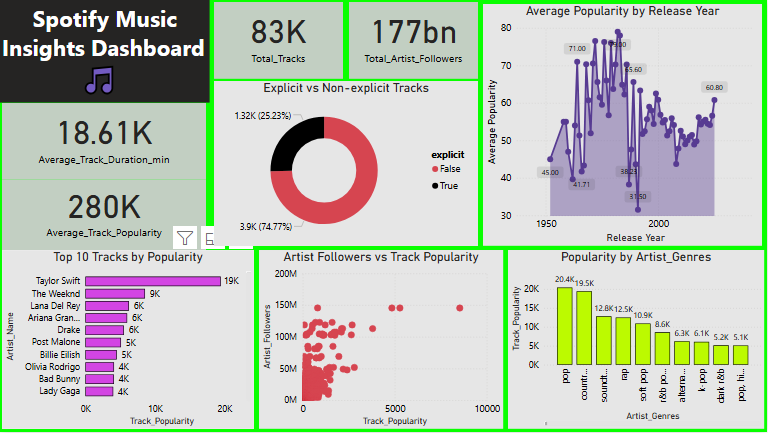

The page's visual inventory and layout, read from the dashboard file:
{"tool":"powerbi","page":{"name":"Page 1","canvas":[1280,720],"ordinal":0},"visuals":[{"type":"textbox","box":[0,0,351.4,171.4],"z":0},{"type":"card","fields":{"Values":["Sum(Sheet1.album_total_tracks)"]},"box":[358.3,3.3,215,128.3],"z":1000},{"type":"card","fields":{"Values":["Sum(Sheet1.artist_followers)"]},"box":[583.3,3.3,215,128.3],"z":2000},{"type":"card","fields":{"Values":["Sum(Sheet1.track_popularity)"]},"box":[5,300,340,116.7],"z":3000},{"type":"card","fields":{"Values":["Sum(Sheet1.track_duration_min)"]},"box":[5,171.7,340,128.3],"z":4000},{"type":"clusteredBarChart","title":"Top 10 Tracks by Popularity","fields":{"Y":["Sum(Sheet1.track_popularity)"],"Category":["Sheet1.artist_name"]},"box":[5,416.7,420,298.3],"z":5000},{"type":"columnChart","title":"Popularity by Artist_Genres","fields":{"Y":["Sum(Sheet1.track_popularity)"],"Category":["Sheet1.artist_genres"]},"box":[848.3,416.7,426.7,298.3],"z":6000},{"type":"scatterChart","title":"Artist Followers vs Track Popularity","fields":{"X":["Sum(Sheet1.track_popularity)"],"Y":["Sheet1.artist_followers"]},"box":[433.3,416.7,406.7,298.3],"z":7000},{"type":"donutChart","title":"Explicit vs Non-explicit Tracks","fields":{"Category":["Sheet1.explicit"],"Y":["CountNonNull(Sheet1.explicit)"]},"box":[358.3,135,440,275],"z":8000},{"type":"lineChart","title":"Average Popularity by Release Year","fields":{"Y":["Avg(Sheet1.track_popularity)"],"Category":["Sheet1.release year"]},"box":[806.7,6.7,465,403.3],"z":9000}]}

Visuals, with their boxes in screenshot pixels (x1, y1, x2, y2), scaled from the page's 1280x720 canvas onto the 768x433 screenshot:
textbox: locate(0, 0, 211, 103)
card - Sum(Sheet1.album_total_tracks): locate(215, 2, 344, 79)
card - Sum(Sheet1.artist_followers): locate(350, 2, 479, 79)
card - Sum(Sheet1.track_popularity): locate(3, 180, 207, 251)
card - Sum(Sheet1.track_duration_min): locate(3, 103, 207, 180)
"Top 10 Tracks by Popularity" clusteredBarChart: locate(3, 251, 255, 430)
"Popularity by Artist_Genres" columnChart: locate(509, 251, 765, 430)
"Artist Followers vs Track Popularity" scatterChart: locate(260, 251, 504, 430)
"Explicit vs Non-explicit Tracks" donutChart: locate(215, 81, 479, 247)
"Average Popularity by Release Year" lineChart: locate(484, 4, 763, 247)
